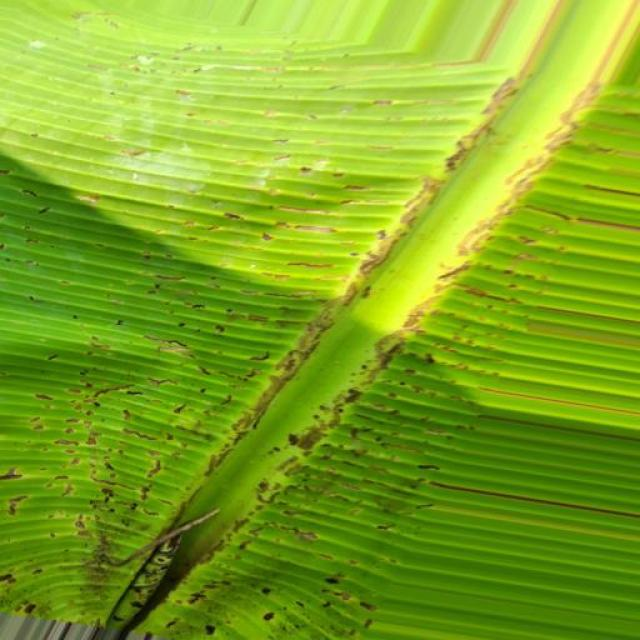Black_rot: (4, 64, 640, 635)
